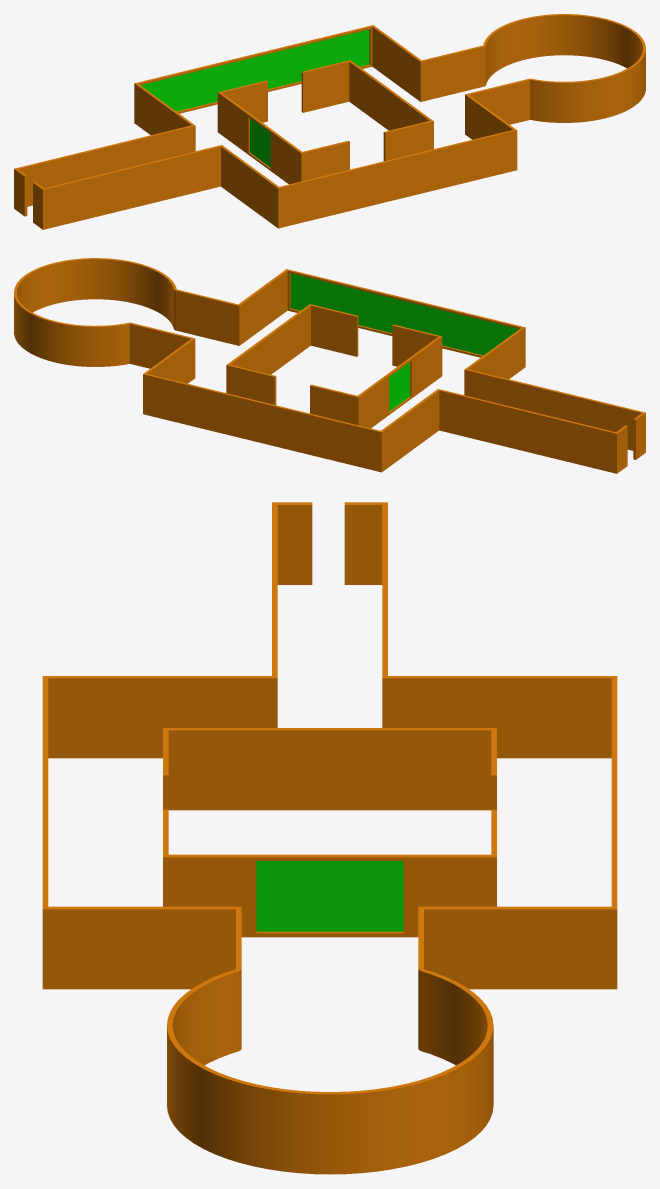
3 views of the same model, one above another, from view 1: azimuth 30°, elevation 25°; view 2: azimuth 150°, elevation 25°; view 3: azimuth 270°, elevation 25° (orthographic). The views are drawn at different scales.
Parts seen in each view (by area): view 1: polySurface214; view 2: polySurface214; view 3: polySurface214.
Boxes of the visible parts, x1,y1,x2,y2 form: polySurface214: [14, 14, 645, 229]; polySurface214: [14, 258, 645, 473]; polySurface214: [42, 502, 617, 1174].
Bounding box in the file's own units: 4890 × 308 × 2007.
